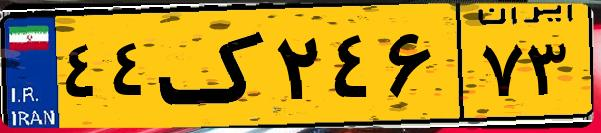2: (270, 28, 330, 110)
3: (525, 38, 570, 115)
4: (330, 28, 385, 110), (57, 26, 110, 100), (110, 28, 158, 98)
6: (385, 28, 445, 110)
7: (475, 38, 525, 113)
ک: (158, 12, 270, 120)
